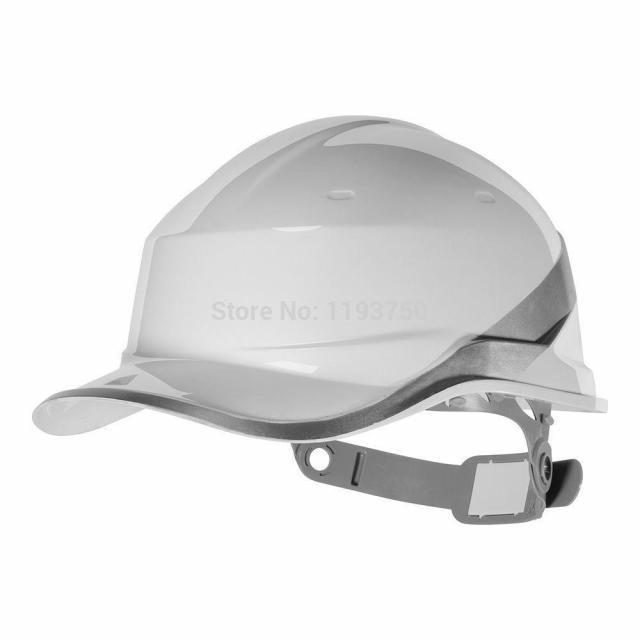safety_helmet: (31, 115, 610, 528)
